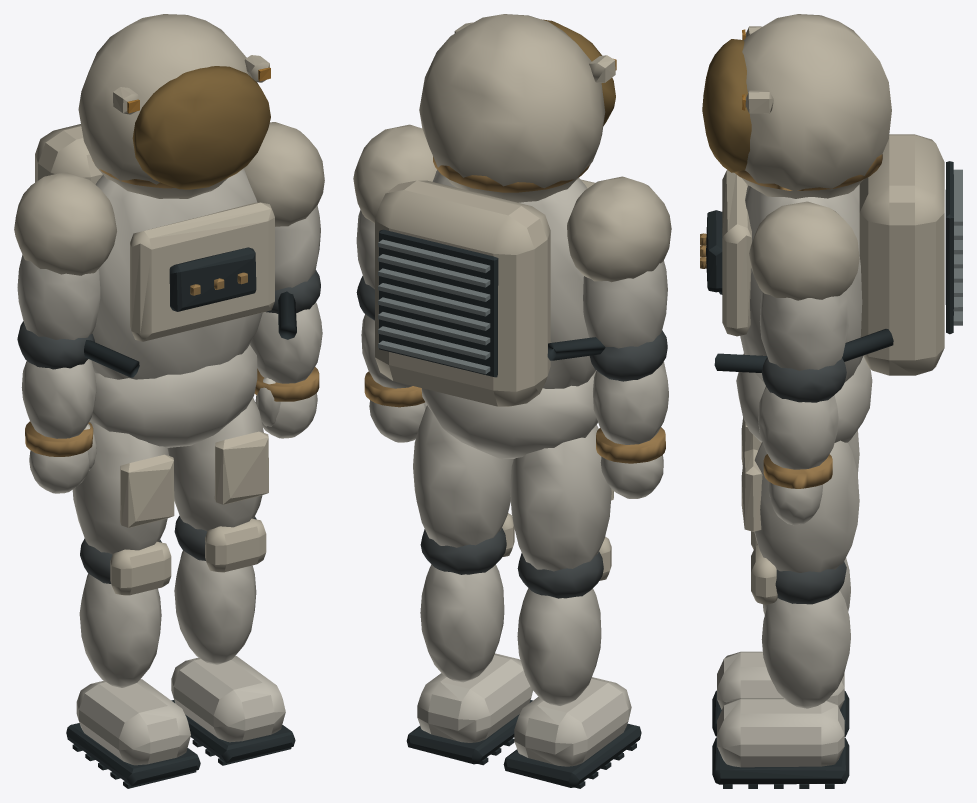
Rendered from astronaut-a02-low.glb.
The picture shows the model from 3 angles, left to right: view 1: azimuth 30°, elevation 25°; view 2: azimuth 150°, elevation 25°; view 3: azimuth 270°, elevation 25°; orthographic projection. The views are drawn at different scales.
Visible parts, largest first — view 1: torso_AUTHOR / A02 / colored garment atlas, knee_L_AUTHOR / A02 / colored garment atlas, knee_R_AUTHOR / A02 / colored garment atlas, helmet_AUTHOR / A02 / colored garment atlas, shoulder_L_AUTHOR / A02 / colored garment atlas, helmet_AUTHOR / A02 / gold coated visor, pelvis_AUTHOR / A02 / colored garment atlas, elbow_L_AUTHOR / A02 / colored garment atlas, hip_L_AUTHOR / A02 / colored garment atlas, hip_R_AUTHOR / A02 / colored garment atlas, shoulder_R_AUTHOR / A02 / colored garment atlas, elbow_R_AUTHOR / A02 / colored garment atlas; view 2: torso_AUTHOR / A02 / colored garment atlas, helmet_AUTHOR / A02 / colored garment atlas, knee_L_AUTHOR / A02 / colored garment atlas, knee_R_AUTHOR / A02 / colored garment atlas, shoulder_L_AUTHOR / A02 / colored garment atlas, hip_L_AUTHOR / A02 / colored garment atlas, elbow_L_AUTHOR / A02 / colored garment atlas, hip_R_AUTHOR / A02 / colored garment atlas, pelvis_AUTHOR / A02 / colored garment atlas, shoulder_R_AUTHOR / A02 / colored garment atlas, elbow_R_AUTHOR / A02 / colored garment atlas, helmet_AUTHOR / A02 / gold coated visor; view 3: torso_AUTHOR / A02 / colored garment atlas, helmet_AUTHOR / A02 / colored garment atlas, knee_R_AUTHOR / A02 / colored garment atlas, shoulder_R_AUTHOR / A02 / colored garment atlas, elbow_R_AUTHOR / A02 / colored garment atlas, hip_R_AUTHOR / A02 / colored garment atlas, helmet_AUTHOR / A02 / gold coated visor, knee_L_AUTHOR / A02 / colored garment atlas, pelvis_AUTHOR / A02 / colored garment atlas, hip_L_AUTHOR / A02 / colored garment atlas.
Boxes of the visible parts, bbox=[...] form: torso_AUTHOR / A02 / colored garment atlas: bbox=[35, 124, 296, 379]; knee_L_AUTHOR / A02 / colored garment atlas: bbox=[66, 538, 200, 788]; knee_R_AUTHOR / A02 / colored garment atlas: bbox=[171, 515, 295, 765]; helmet_AUTHOR / A02 / colored garment atlas: bbox=[78, 14, 270, 198]; shoulder_L_AUTHOR / A02 / colored garment atlas: bbox=[14, 172, 116, 339]; helmet_AUTHOR / A02 / gold coated visor: bbox=[132, 66, 270, 189]; pelvis_AUTHOR / A02 / colored garment atlas: bbox=[89, 344, 257, 447]; elbow_L_AUTHOR / A02 / colored garment atlas: bbox=[17, 321, 96, 493]; hip_L_AUTHOR / A02 / colored garment atlas: bbox=[72, 421, 174, 554]; hip_R_AUTHOR / A02 / colored garment atlas: bbox=[167, 397, 268, 531]; shoulder_R_AUTHOR / A02 / colored garment atlas: bbox=[244, 122, 324, 290]; elbow_R_AUTHOR / A02 / colored garment atlas: bbox=[249, 270, 322, 438]; torso_AUTHOR / A02 / colored garment atlas: bbox=[375, 156, 605, 406]; helmet_AUTHOR / A02 / colored garment atlas: bbox=[419, 14, 616, 202]; knee_L_AUTHOR / A02 / colored garment atlas: bbox=[503, 536, 641, 788]; knee_R_AUTHOR / A02 / colored garment atlas: bbox=[406, 513, 532, 765]; shoulder_L_AUTHOR / A02 / colored garment atlas: bbox=[567, 176, 671, 348]; hip_L_AUTHOR / A02 / colored garment atlas: bbox=[510, 425, 613, 571]; elbow_L_AUTHOR / A02 / colored garment atlas: bbox=[589, 330, 668, 498]; hip_R_AUTHOR / A02 / colored garment atlas: bbox=[413, 405, 513, 547]; pelvis_AUTHOR / A02 / colored garment atlas: bbox=[421, 370, 597, 458]; shoulder_R_AUTHOR / A02 / colored garment atlas: bbox=[353, 124, 436, 289]; elbow_R_AUTHOR / A02 / colored garment atlas: bbox=[356, 276, 426, 442]; helmet_AUTHOR / A02 / gold coated visor: bbox=[541, 19, 615, 125]; torso_AUTHOR / A02 / colored garment atlas: bbox=[700, 134, 962, 383]; helmet_AUTHOR / A02 / colored garment atlas: bbox=[742, 14, 891, 198]; knee_R_AUTHOR / A02 / colored garment atlas: bbox=[712, 544, 850, 788]; shoulder_R_AUTHOR / A02 / colored garment atlas: bbox=[749, 201, 859, 370]; elbow_R_AUTHOR / A02 / colored garment atlas: bbox=[758, 357, 846, 525]; hip_R_AUTHOR / A02 / colored garment atlas: bbox=[741, 440, 859, 572]; helmet_AUTHOR / A02 / gold coated visor: bbox=[702, 39, 751, 172]; knee_L_AUTHOR / A02 / colored garment atlas: bbox=[712, 531, 850, 736]; pelvis_AUTHOR / A02 / colored garment atlas: bbox=[736, 353, 872, 442]; hip_L_AUTHOR / A02 / colored garment atlas: bbox=[741, 418, 859, 474].
Bounding box in the file's own units: 0.8099 × 1.89 × 0.6181.
